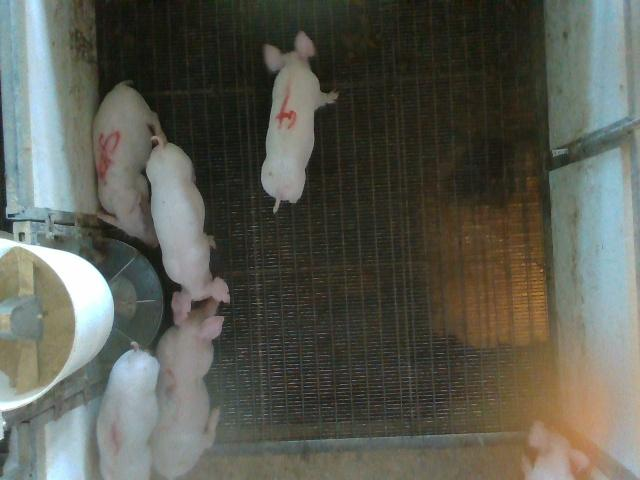pig-1: (96, 342, 159, 479)
pig-3: (150, 299, 224, 478)
pig-4: (261, 31, 339, 212)
pig-5: (92, 81, 164, 247)
